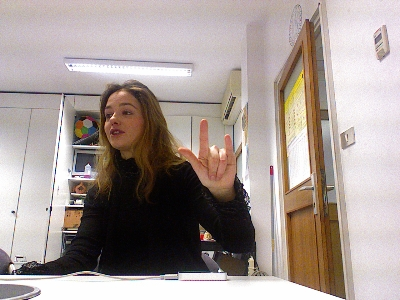我爱你: (176, 118, 237, 189)
